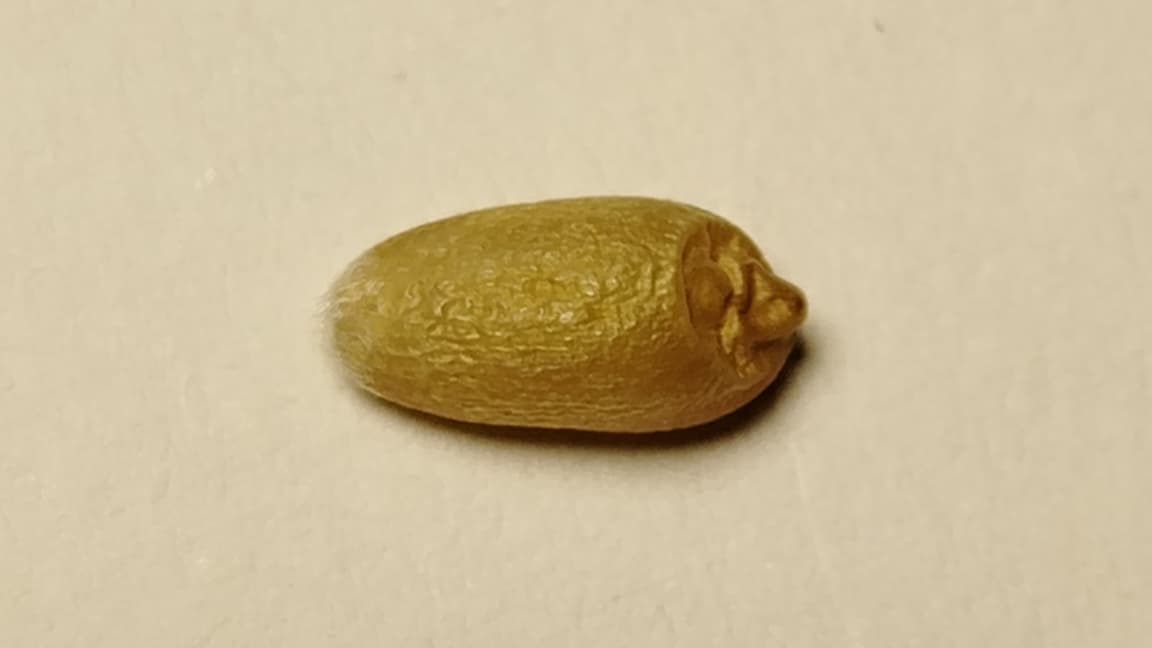healthy: (319, 195, 805, 432)
